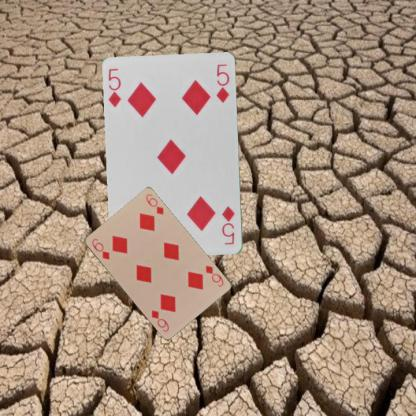5d: (219, 204, 236, 246), (106, 66, 122, 108)
6d: (203, 263, 225, 288), (89, 236, 111, 260)
